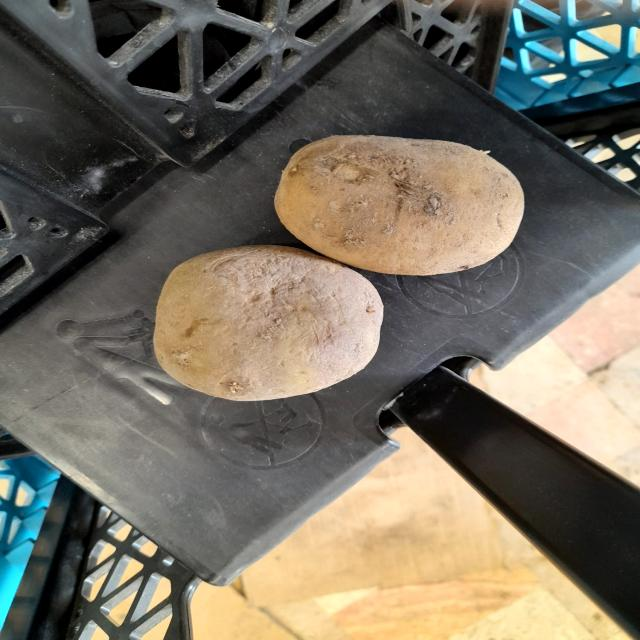potato: (128, 238, 415, 406), (273, 115, 532, 275)
